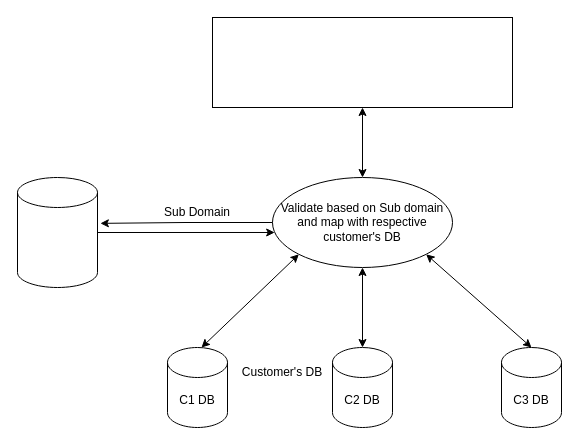
This 579x445 diagram has some shape labels left out. The centre of each missing label's shape, as x and y in pixels:
Master DB: the point at 57,232
PayWheel App: the point at 362,62
